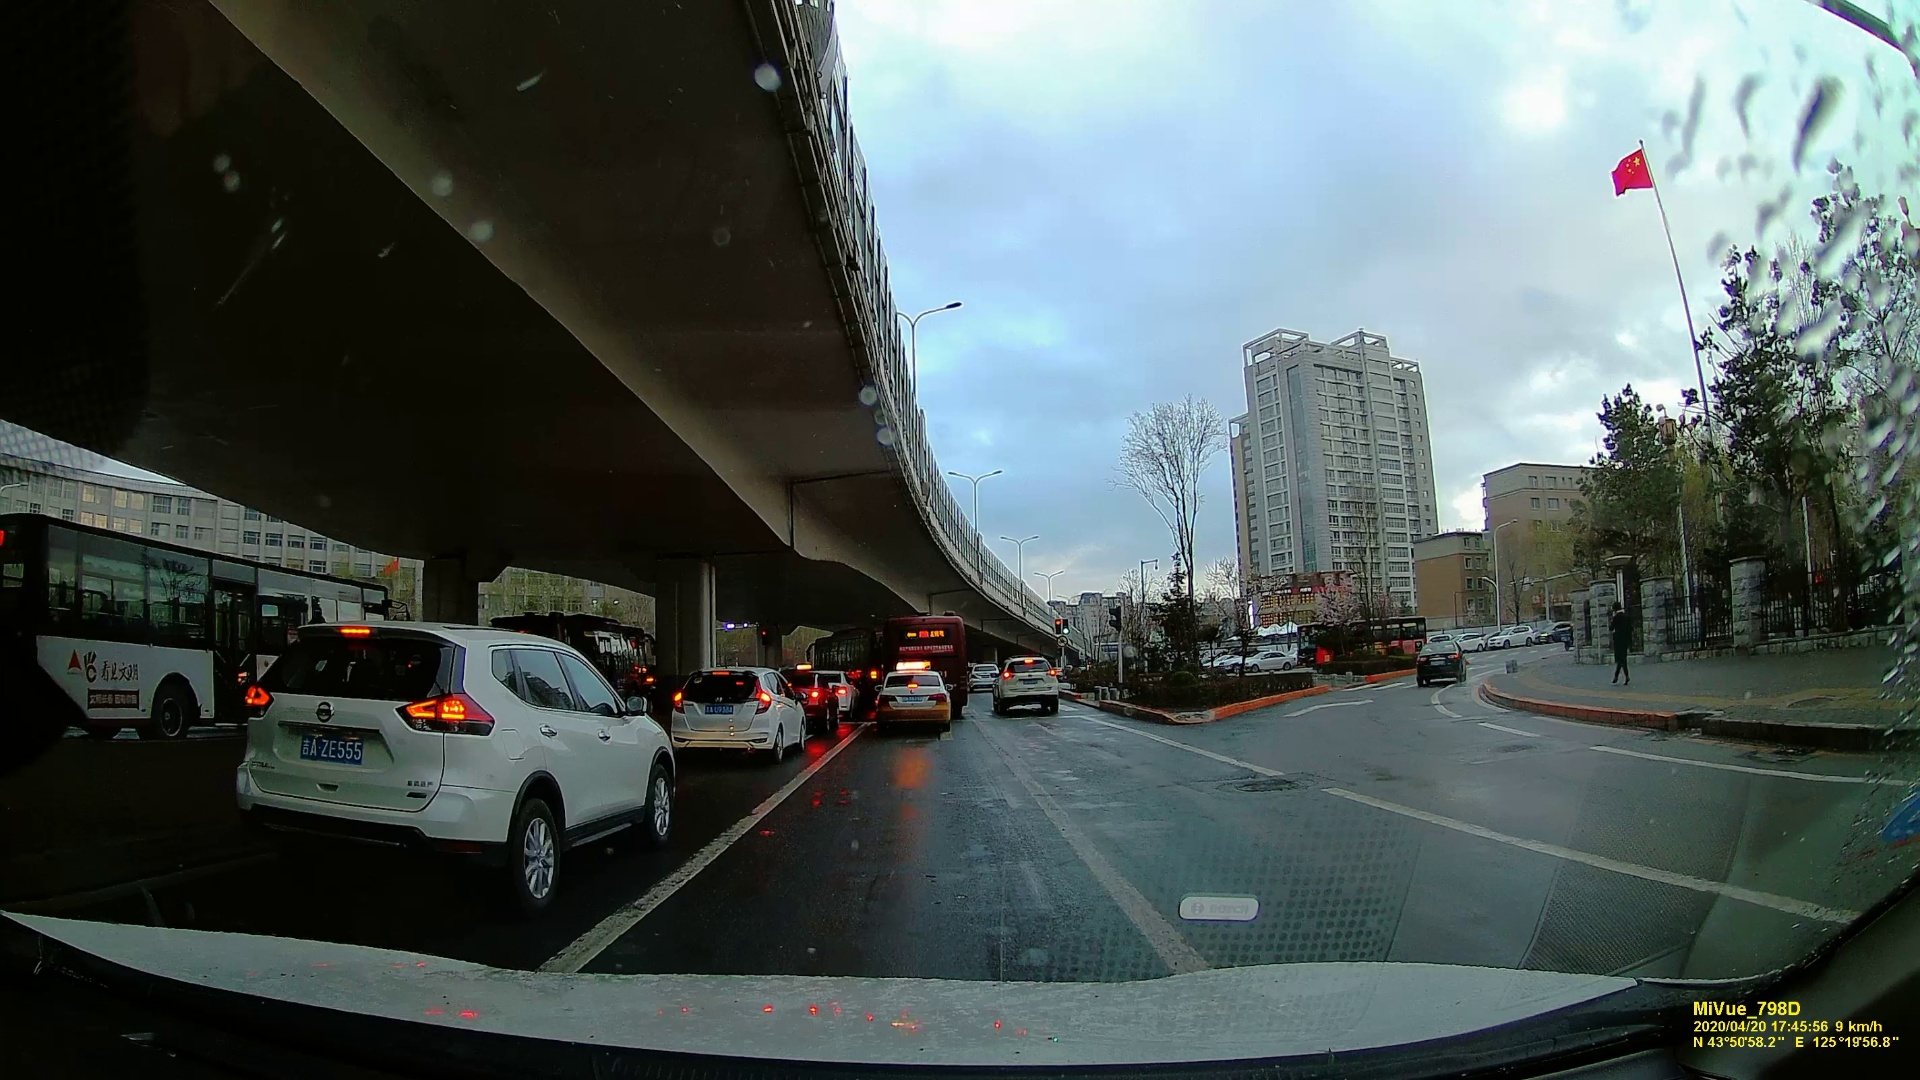bus: (881, 615, 958, 698)
person: (1604, 610, 1632, 684)
traffic_sign: (0, 518, 398, 734), (1055, 618, 1068, 638)
vehicle: (240, 613, 679, 899), (668, 663, 807, 758), (872, 671, 951, 733), (991, 656, 1062, 713), (1418, 638, 1471, 682)
